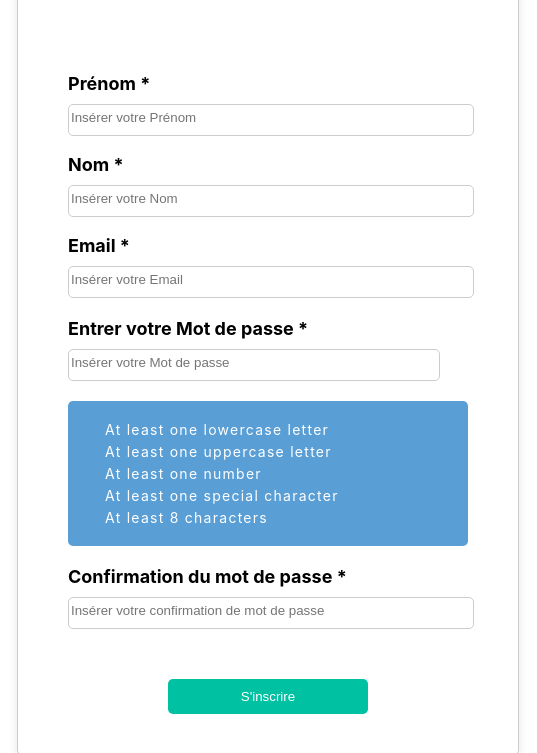
Test case: Signup Component › should show errors for empty fields
(page scrolled)
# Trigger signup without filling in the fields
Click the button with test id "submit-signup": click(268, 697) [168, 679, 368, 714]
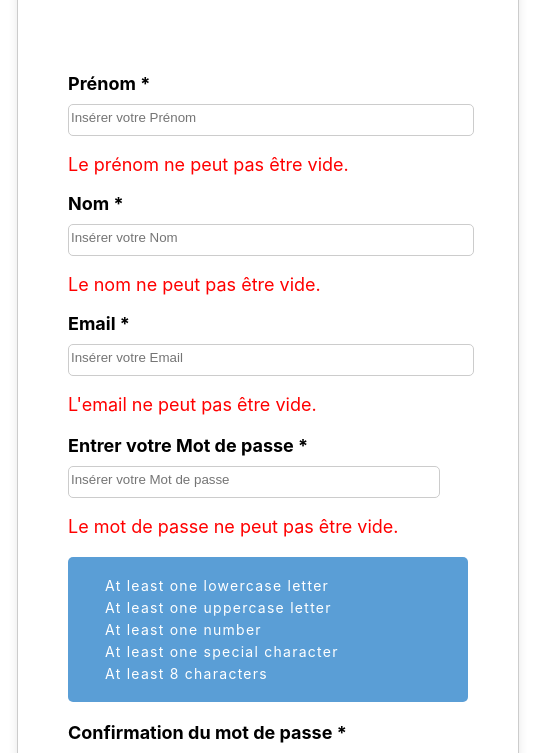
Now the text with class "error-message" reads "Le prénom ne peut pas être vide.", box [68, 154, 349, 175]
